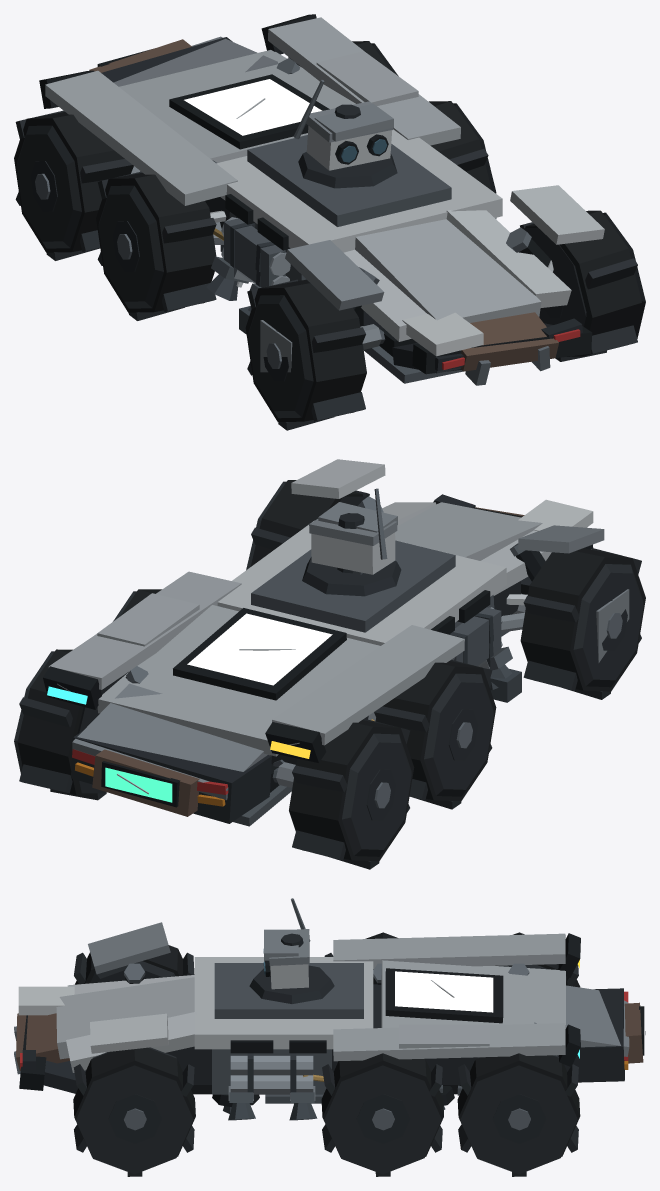
Rendered from r47xs_recon_rover_d1_lod1.glb.
3 renders of one model, top to bottom at view 1: azimuth 30°, elevation 25°; view 2: azimuth 150°, elevation 25°; view 3: azimuth 270°, elevation 25°, orthographic. The views are drawn at different scales.
Parts seen in each view (by area): view 1: ZONE_FRONT_BUMPER, CHASSIS_ARMOR_BODY, WHEEL_ML, WHEEL_FL, ZONE_FLANK_NEG_X, WHEEL_RL, WHEEL_FR, ZONE_FLANK_POS_X, DISPLAY_FDAI_TELEMETRY_PANEL, ZONE_REAR_PANEL, SENSOR_MAST_HEAD, DEBRIS_FENDER_POS_X (+7 smaller); view 2: CHASSIS_ARMOR_BODY, ZONE_REAR_PANEL, WHEEL_FL, WHEEL_RL, ZONE_FRONT_BUMPER, ZONE_FLANK_NEG_X, WHEEL_ML, WHEEL_RR, ZONE_FLANK_POS_X, DISPLAY_FDAI_TELEMETRY_PANEL, SENSOR_MAST_HEAD, WHEEL_FR (+10 smaller); view 3: CHASSIS_ARMOR_BODY, ZONE_FRONT_BUMPER, WHEEL_FR, ZONE_FLANK_POS_X, WHEEL_RR, WHEEL_MR, ZONE_FLANK_NEG_X, ZONE_REAR_PANEL, DISPLAY_FDAI_TELEMETRY_PANEL, DEBRIS_FENDER_POS_X, WHEEL_FL, SENSOR_MAST_HEAD (+5 smaller).
Part boxes in pixels (x1,y1,x2,y2): ZONE_FRONT_BUMPER: (285,185,604,385); CHASSIS_ARMOR_BODY: (119,50,502,356); WHEEL_ML: (96,171,216,320); WHEEL_FL: (245,279,366,430); ZONE_FLANK_NEG_X: (39,70,306,287); WHEEL_RL: (14,110,133,260); WHEEL_FR: (520,210,645,361); ZONE_FLANK_POS_X: (261,14,496,218); DISPLAY_FDAI_TELEMETRY_PANEL: (184,79,322,135); ZONE_REAR_PANEL: (89,36,277,86); SENSOR_MAST_HEAD: (293,80,393,170); DEBRIS_FENDER_POS_X: (316,51,418,105); CHASSIS_ARMOR_BODY: (97,520,520,792); ZONE_REAR_PANEL: (71,683,292,826); WHEEL_FL: (520,548,645,699); WHEEL_RL: (289,718,414,869); ZONE_FRONT_BUMPER: (291,459,604,636); ZONE_FLANK_NEG_X: (265,590,502,762); WHEEL_ML: (374,659,496,809); WHEEL_RR: (14,649,128,800); ZONE_FLANK_POS_X: (43,571,241,709); DISPLAY_FDAI_TELEMETRY_PANEL: (187,613,332,685); SENSOR_MAST_HEAD: (309,488,397,574); WHEEL_FR: (246,480,369,570); CHASSIS_ARMOR_BODY: (166,957,565,1103); ZONE_FRONT_BUMPER: (14,922,196,1093); WHEEL_FR: (73,1047,195,1176); ZONE_FLANK_POS_X: (212,1023,580,1107); WHEEL_RR: (457,1053,580,1176); WHEEL_MR: (321,1053,443,1176); ZONE_FLANK_NEG_X: (333,933,580,977); ZONE_REAR_PANEL: (457,985,644,1095); DISPLAY_FDAI_TELEMETRY_PANEL: (395,971,493,1012); DEBRIS_FENDER_POS_X: (399,1024,489,1048); WHEEL_FL: (74,945,194,984); SENSOR_MAST_HEAD: (263,898,310,989).
Size of the model in its own units: 2.44 by 1.68 by 4.74.
